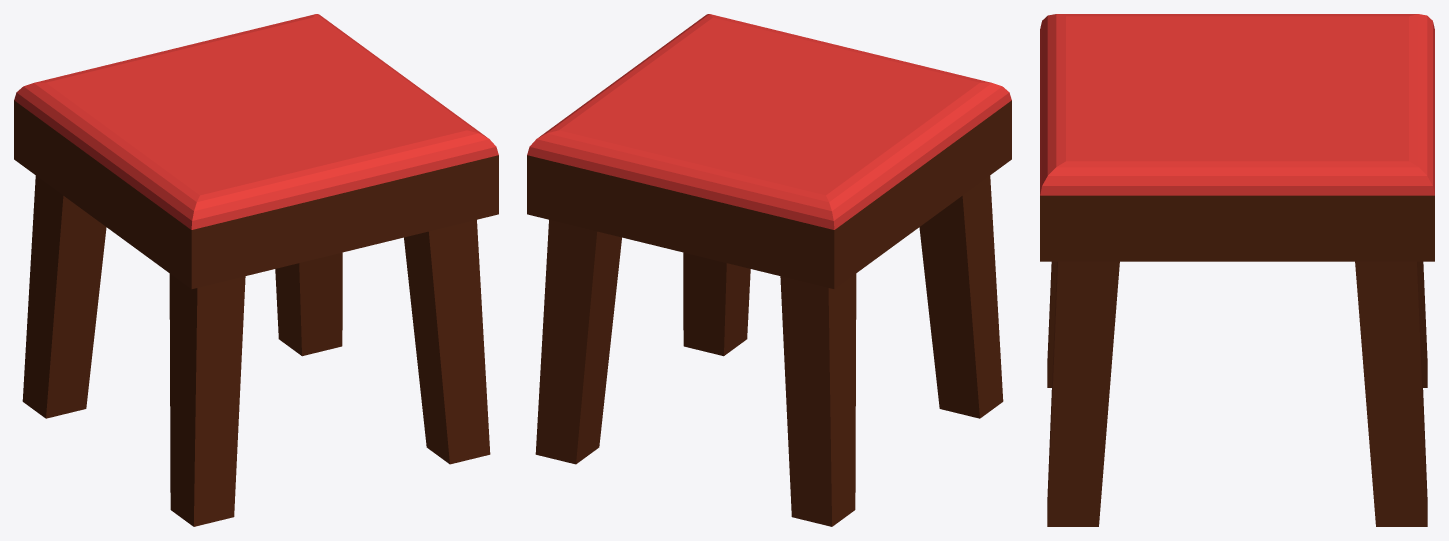
The model's file is Stool.glb.
3 views of the same model, side by side, from view 1: azimuth 30°, elevation 25°; view 2: azimuth 150°, elevation 25°; view 3: azimuth 270°, elevation 25° (orthographic). The views are drawn at different scales.
Visible parts, largest first — view 1: Stool; view 2: Stool; view 3: Stool.
Part boxes in pixels (bbox=[...]): Stool: bbox=[14, 14, 498, 526]; Stool: bbox=[527, 14, 1011, 526]; Stool: bbox=[1040, 14, 1434, 526].
Bounding box in the file's own units: 1 × 1 × 1.
